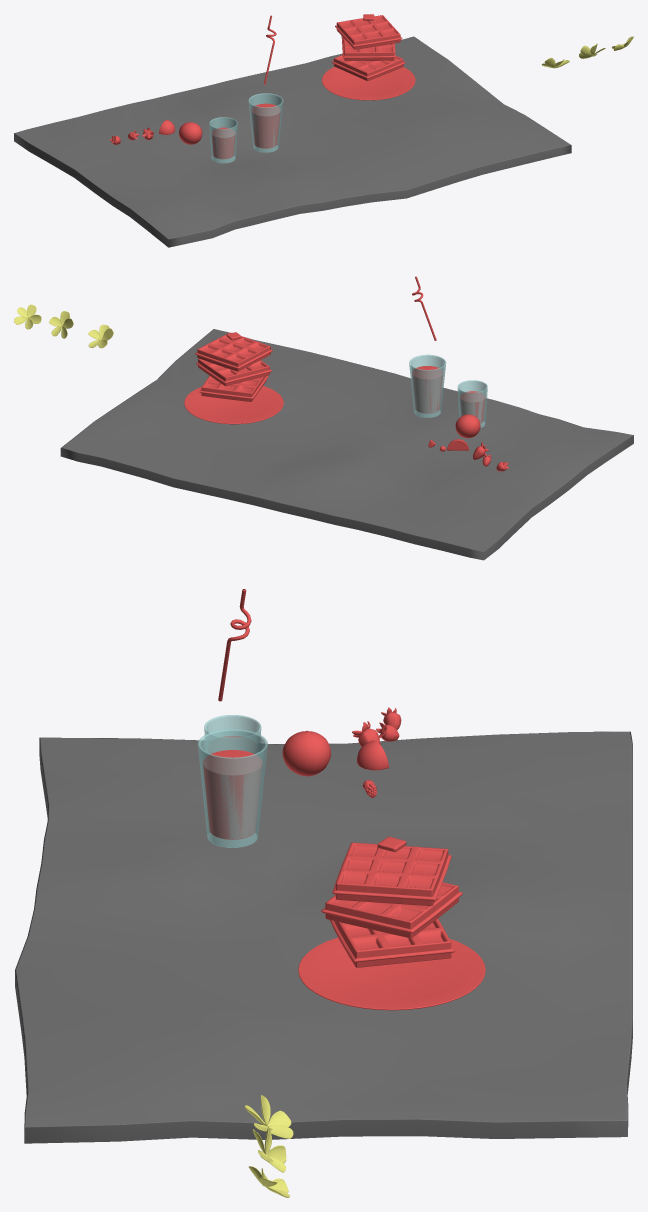
File: MMM_Breakfast_Scene.fbx
3 renders of one model, top to bottom at view 1: azimuth 30°, elevation 25°; view 2: azimuth 150°, elevation 25°; view 3: azimuth 270°, elevation 25°, orthographic. The views are drawn at different scales.
Visible parts, largest first — view 1: towel, plate_01, orange_juice_glass, waffle_03, milk_glass, orange_juice, waffle_05, waffle_04, milk, orange_01; view 2: towel, plate_01, orange_juice_glass, waffle_03, orange_juice, waffle_05, milk_glass, waffle_04, milk, orange_01, lei_flower_03, lei_flower_02 (+1 smaller); view 3: towel, plate_01, orange_juice_glass, waffle_03, orange_juice, waffle_05, waffle_04, milk_glass, orange_01, lei_flower_05.
Part boxes in pixels (x1=…): towel: x1=14, y1=36, x2=571, y2=247; plate_01: x1=322, y1=66, x2=415, y2=100; orange_juice_glass: x1=248, y1=93, x2=283, y2=152; waffle_03: x1=335, y1=15, x2=402, y2=49; milk_glass: x1=209, y1=117, x2=237, y2=163; orange_juice: x1=251, y1=103, x2=280, y2=148; waffle_05: x1=331, y1=55, x2=405, y2=81; waffle_04: x1=341, y1=36, x2=395, y2=60; milk: x1=211, y1=127, x2=235, y2=159; orange_01: x1=179, y1=122, x2=202, y2=144; towel: x1=60, y1=329, x2=633, y2=560; plate_01: x1=184, y1=386, x2=283, y2=424; orange_juice_glass: x1=409, y1=354, x2=446, y2=417; waffle_03: x1=195, y1=332, x2=272, y2=371; orange_juice: x1=412, y1=366, x2=442, y2=413; waffle_05: x1=199, y1=376, x2=268, y2=401; milk_glass: x1=457, y1=380, x2=487, y2=427; waffle_04: x1=196, y1=358, x2=271, y2=386; milk: x1=460, y1=391, x2=485, y2=422; orange_01: x1=455, y1=414, x2=480, y2=438; lei_flower_03: x1=14, y1=304, x2=41, y2=329; lei_flower_02: x1=49, y1=311, x2=73, y2=338; towel: x1=15, y1=731, x2=632, y2=1143; plate_01: x1=298, y1=937, x2=485, y2=1010; orange_juice_glass: x1=197, y1=729, x2=267, y2=847; waffle_03: x1=332, y1=842, x2=451, y2=906; orange_juice: x1=203, y1=750, x2=262, y2=839; waffle_05: x1=330, y1=918, x2=454, y2=967; waffle_04: x1=321, y1=882, x2=462, y2=938; milk_glass: x1=204, y1=715, x2=261, y2=753; orange_01: x1=282, y1=730, x2=331, y2=776; lei_flower_05: x1=244, y1=1095, x2=293, y2=1138.
Bounding box in the file's own units: 12644 × 3656 × 6395.
